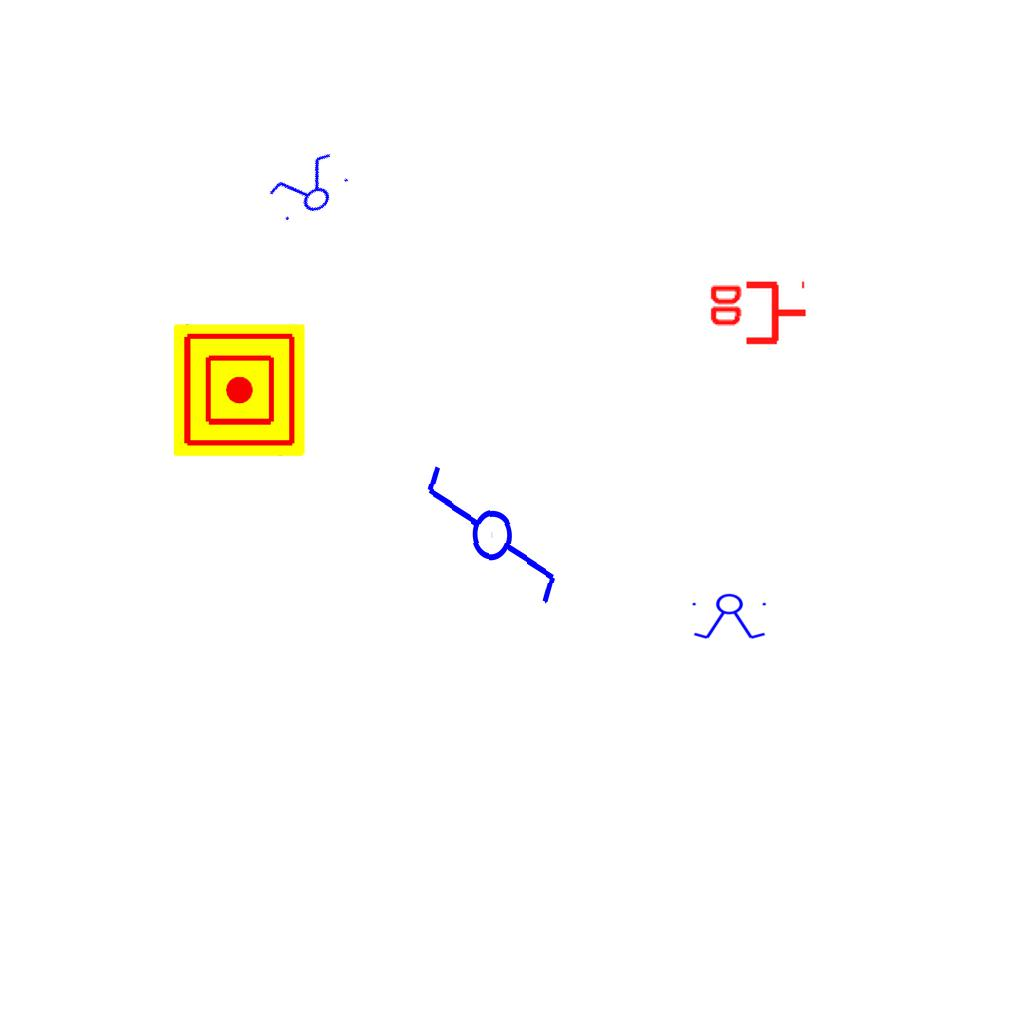Datenanschluss_zweifach: (706, 280, 809, 349)
NAM-Nichtautomatischer_Melder: (173, 324, 305, 456)
Serienschalter: (260, 145, 358, 233), (688, 593, 772, 641)
Wechselschalter: (413, 460, 566, 626)
